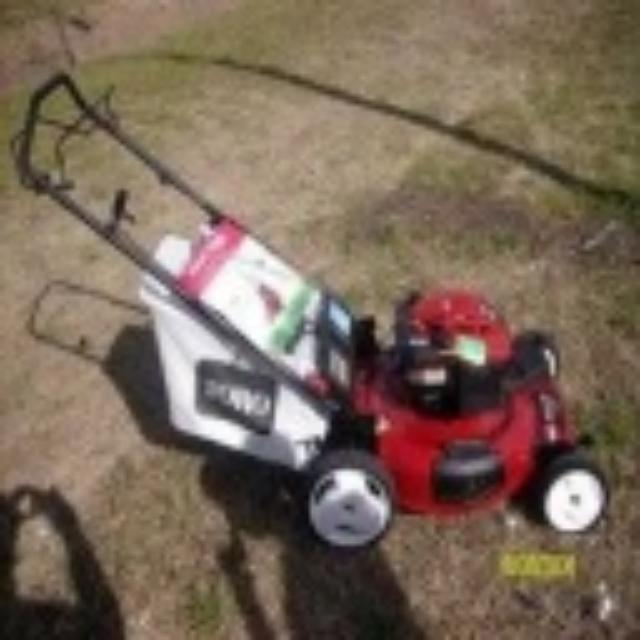Rotary-Mower: (6, 60, 610, 550)
